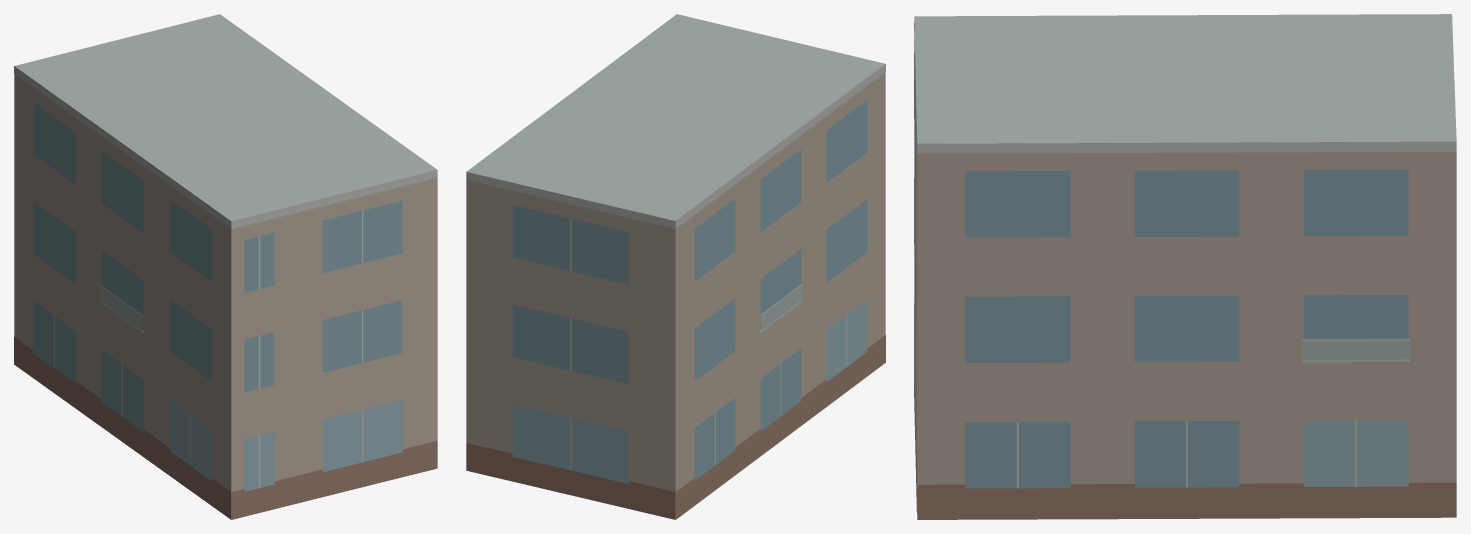
The model's file is survey-upis-32718319.glb.
3 views of the same model, side by side, from view 1: azimuth 30°, elevation 25°; view 2: azimuth 150°, elevation 25°; view 3: azimuth 270°, elevation 25° (orthographic). The views are drawn at different scales.
Visible parts, largest first — view 1: survey-upis-32718319.tmp; view 2: survey-upis-32718319.tmp; view 3: survey-upis-32718319.tmp.
Boxes of the visible parts, left/top/right/bottom form: survey-upis-32718319.tmp: left=14, top=14, right=437, bottom=519; survey-upis-32718319.tmp: left=466, top=14, right=885, bottom=519; survey-upis-32718319.tmp: left=914, top=14, right=1456, bottom=519.
Bounding box in the file's own units: 6.78 × 9.15 × 11.97.
